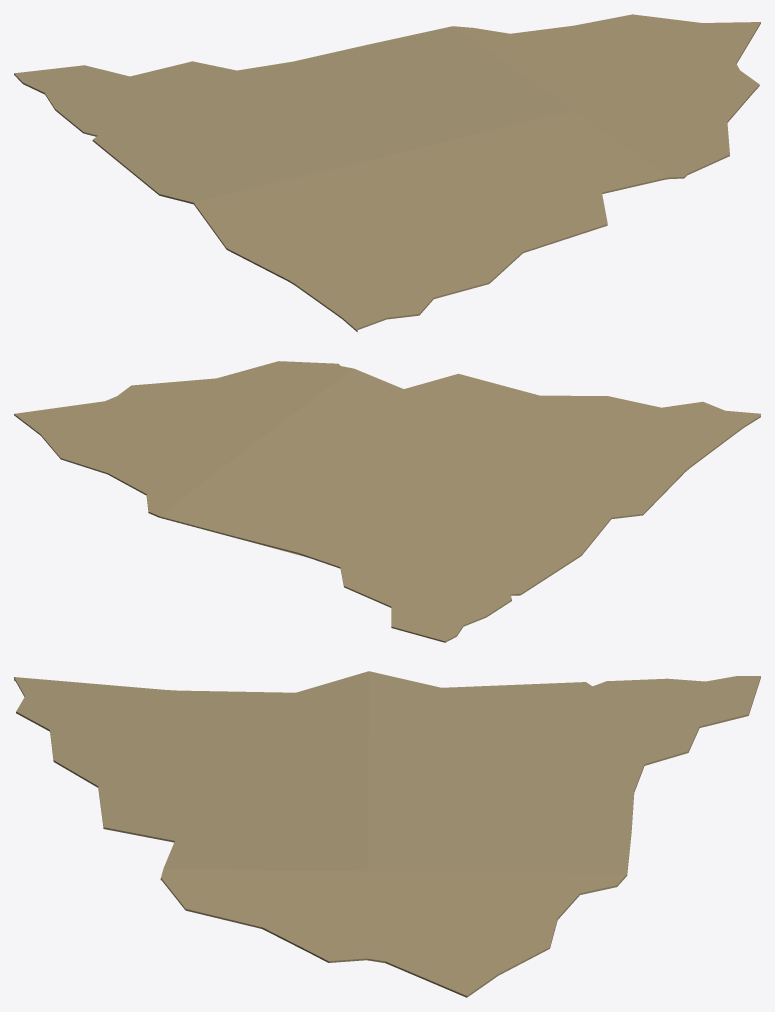
Rendered from Brief002.fbx.
The picture shows the model from 3 angles, top to bottom: view 1: azimuth 30°, elevation 25°; view 2: azimuth 150°, elevation 25°; view 3: azimuth 270°, elevation 25°; orthographic projection. The views are drawn at different scales.
Parts seen in each view (by area): view 1: Brief.002; view 2: Brief.002; view 3: Brief.002.
Boxes of the visible parts, bbox=[...] form: Brief.002: bbox=[14, 14, 760, 331]; Brief.002: bbox=[14, 361, 760, 642]; Brief.002: bbox=[14, 671, 760, 997].
Size of the model in its own units: 163 by 6.2 by 159.
